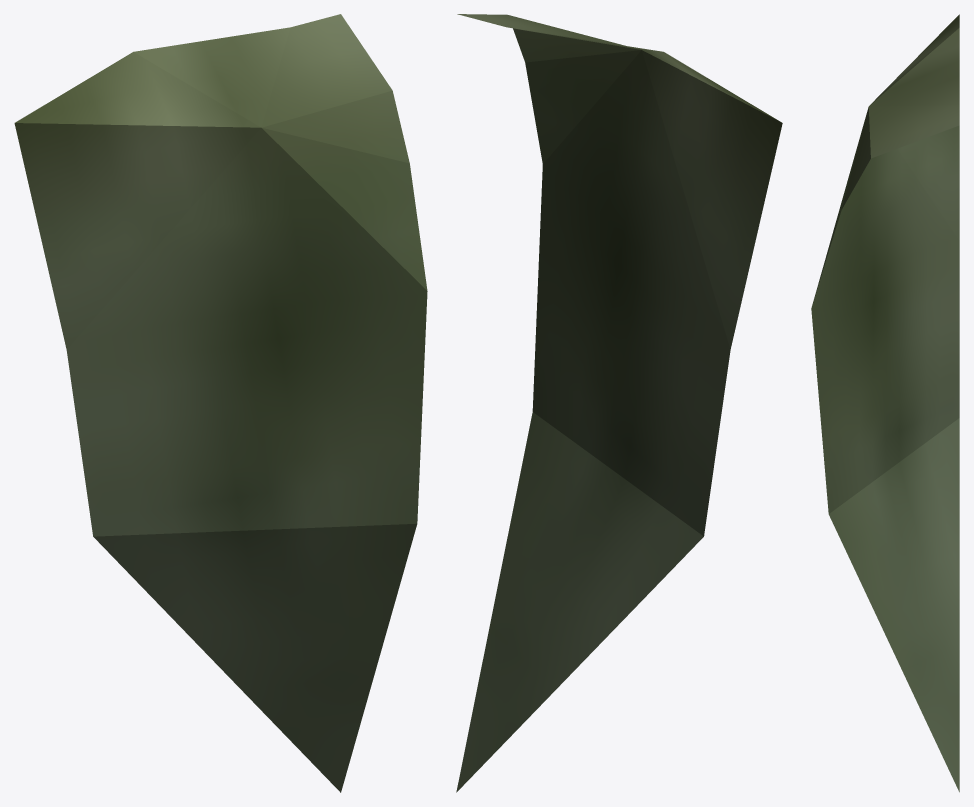
3 views of the same model, side by side, from view 1: azimuth 30°, elevation 25°; view 2: azimuth 150°, elevation 25°; view 3: azimuth 270°, elevation 25° (orthographic). The views are drawn at different scales.
Size of the model in its own units: 0.1262 by 0.2924 by 0.0579.
1 material, 1 textured.
